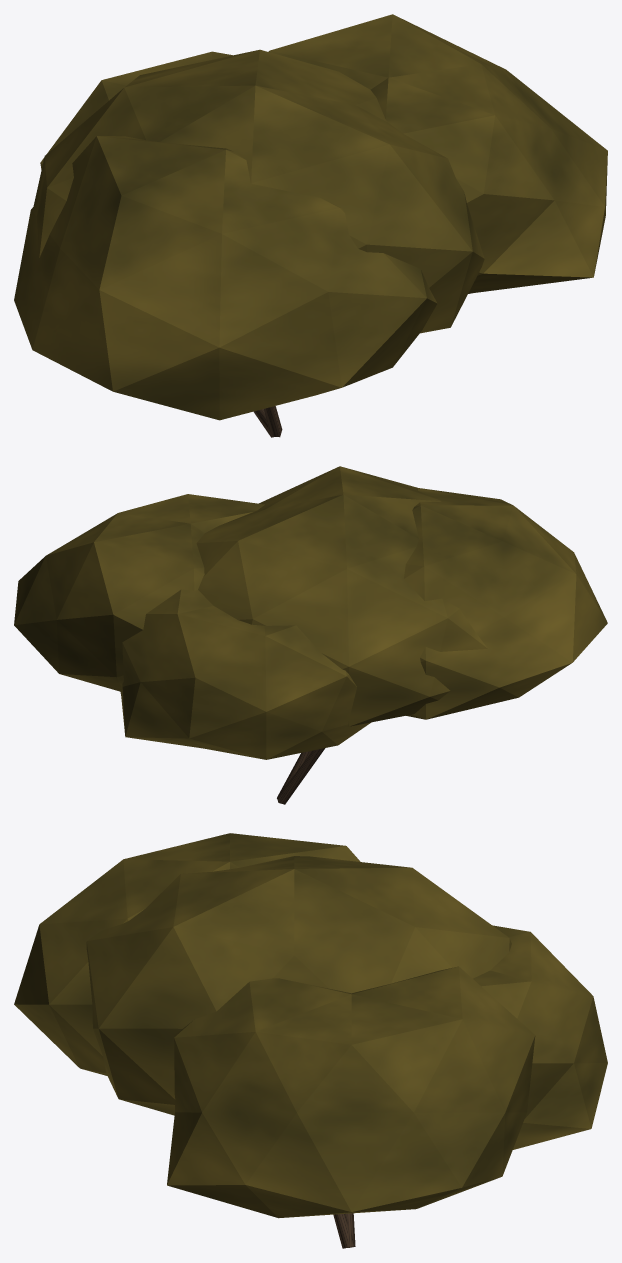
File: bush_L1.glb
3 renders of one model, top to bottom at view 1: azimuth 30°, elevation 25°; view 2: azimuth 150°, elevation 25°; view 3: azimuth 270°, elevation 25°, orthographic. The views are drawn at different scales.
Size of the model in its own units: 1.76 by 1.01 by 1.51.
Materials: 2 (2 with a texture image).
